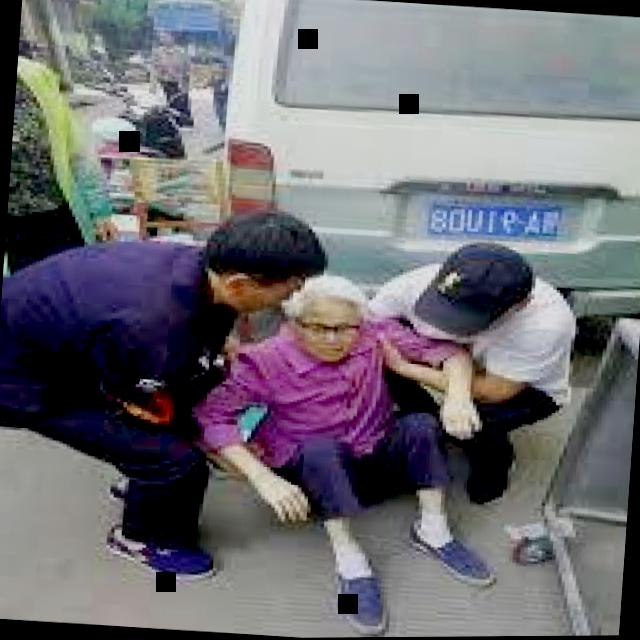Fall-Detected: (179, 245, 546, 639)
